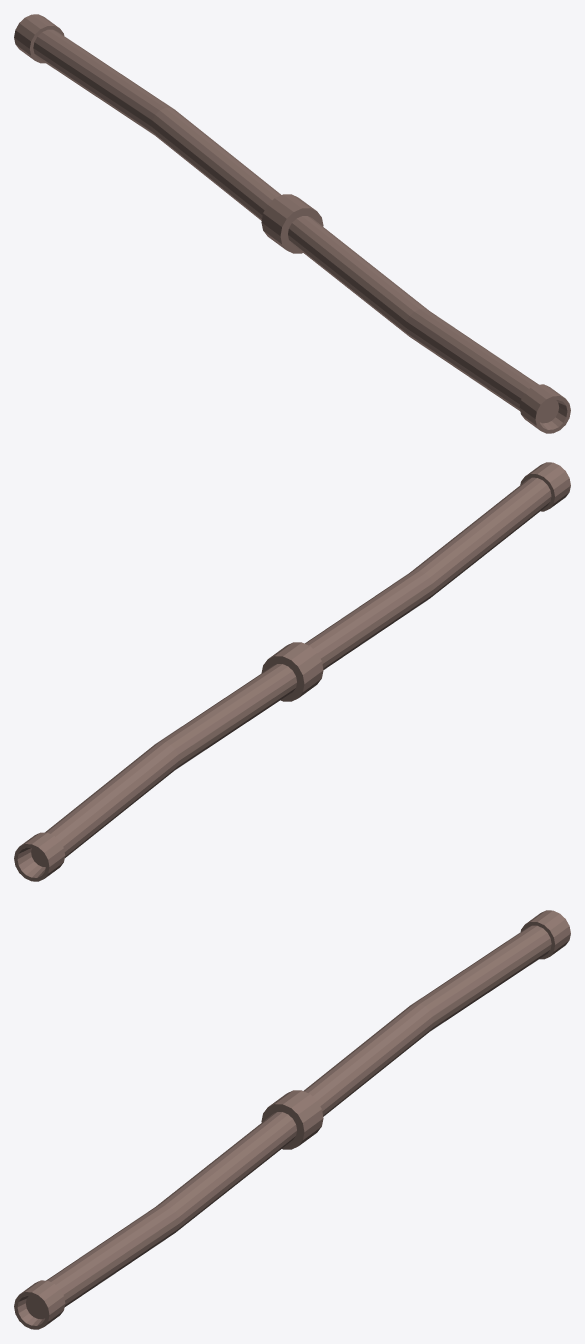
File: canos.fbx
3 views of the same model, one above another, from view 1: azimuth 30°, elevation 25°; view 2: azimuth 150°, elevation 25°; view 3: azimuth 330°, elevation 25° (orthographic).
Visible parts, largest first — view 1: Cylinder.001; view 2: Cylinder.001; view 3: Cylinder.001.
Boxes of the visible parts, x1,y1,x2,y2 form: Cylinder.001: (14, 14, 570, 433); Cylinder.001: (14, 462, 570, 881); Cylinder.001: (14, 910, 570, 1329).
Size of the model in its own units: 46.7 by 47.04 by 979.
